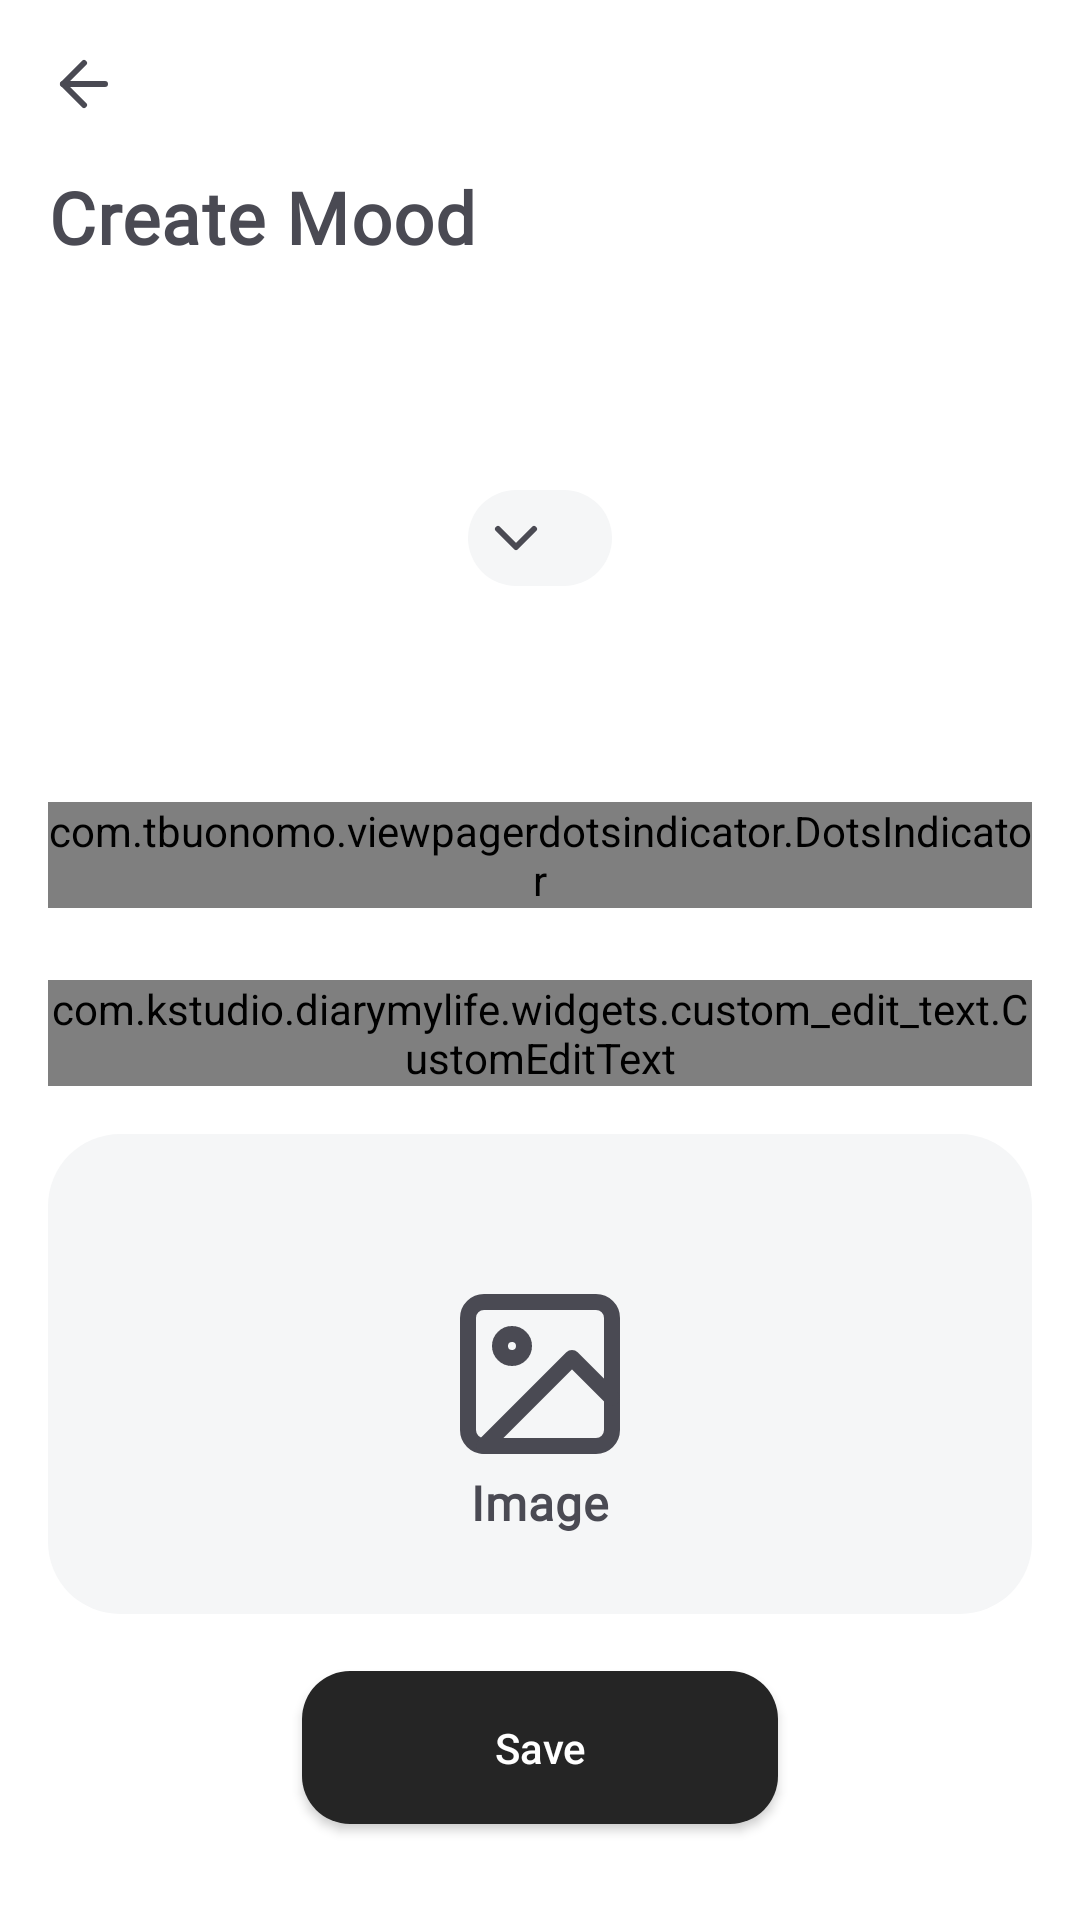

Icon click points for this 1080 x 1920 phone screenshot, format (x,y):
arrow left: (84,84)
